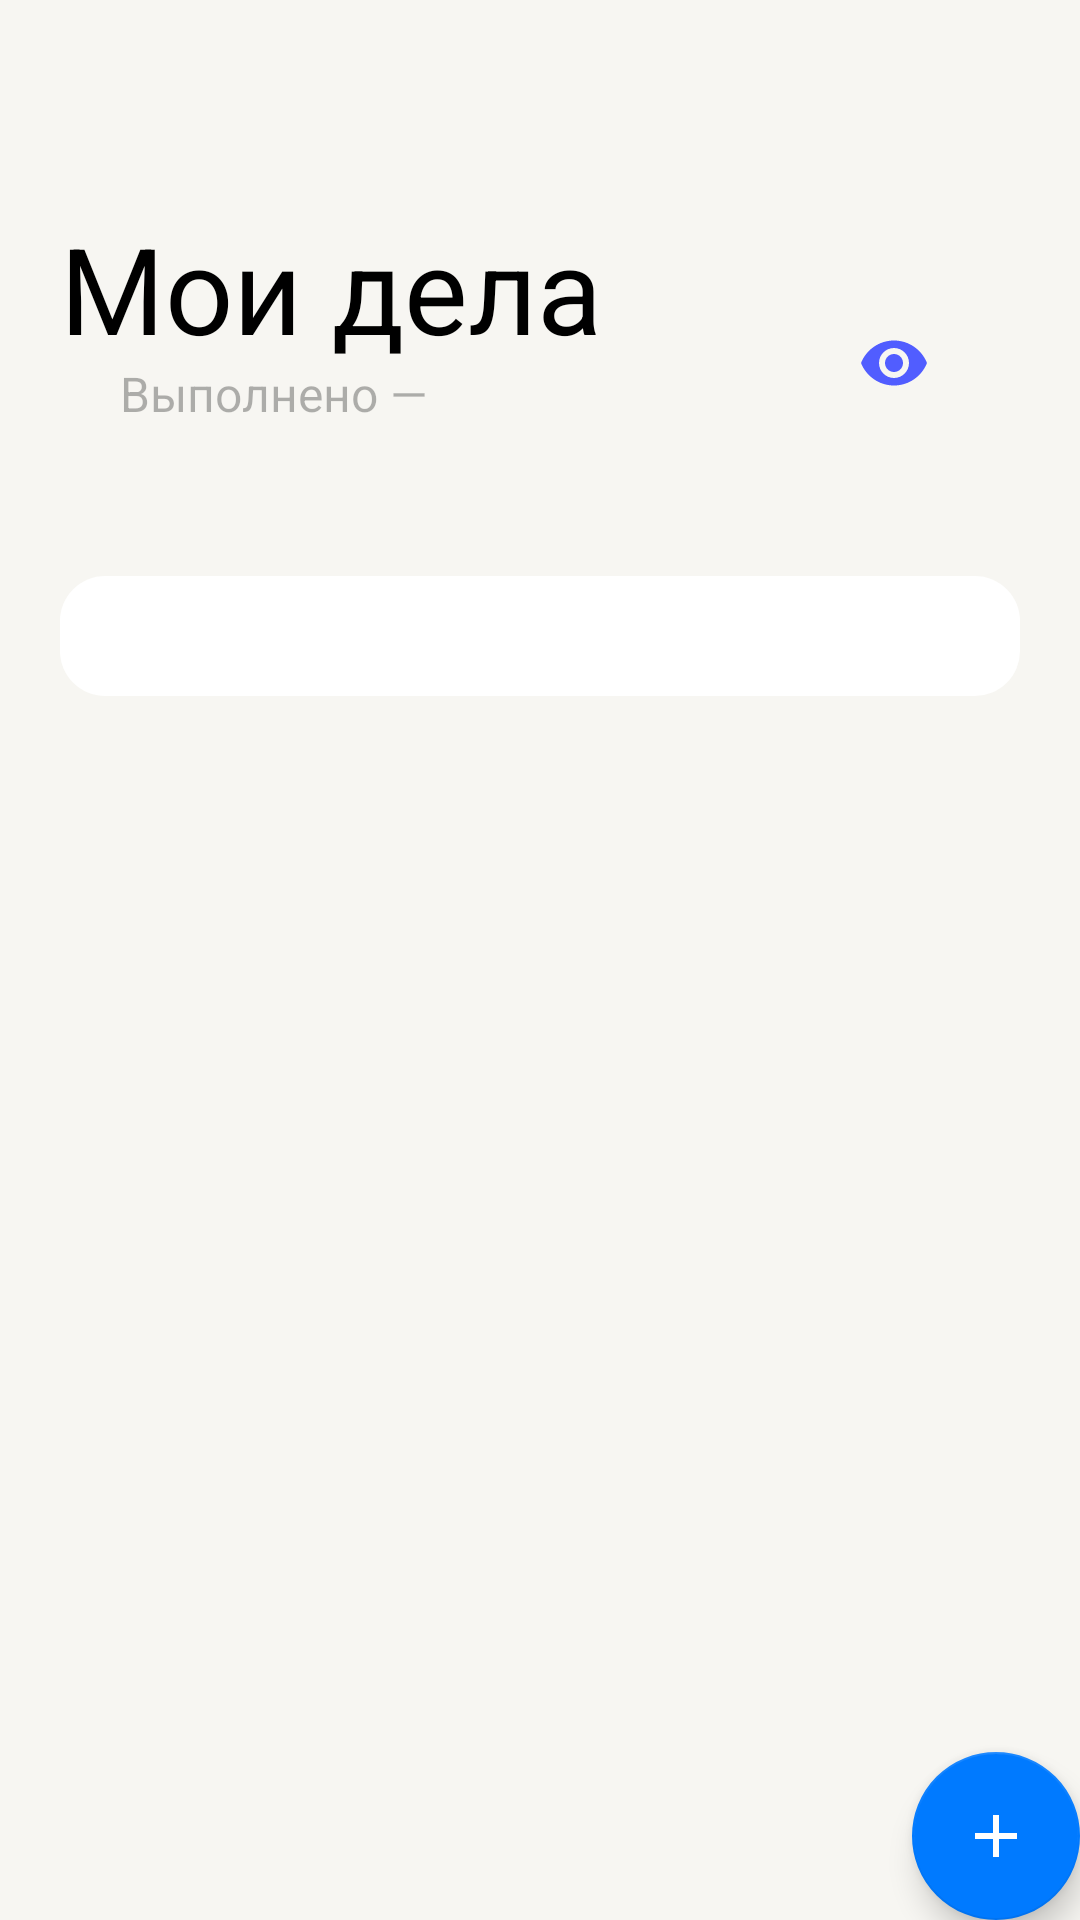

Locate icon controls on the screen. Image size 1080px x 1920px, boxes as (left=x1, top=y1, right=x2, bottom=y2).
Add new item: (left=912, top=1752, right=1080, bottom=1920)
visibility: (left=861, top=340, right=927, bottom=386)
